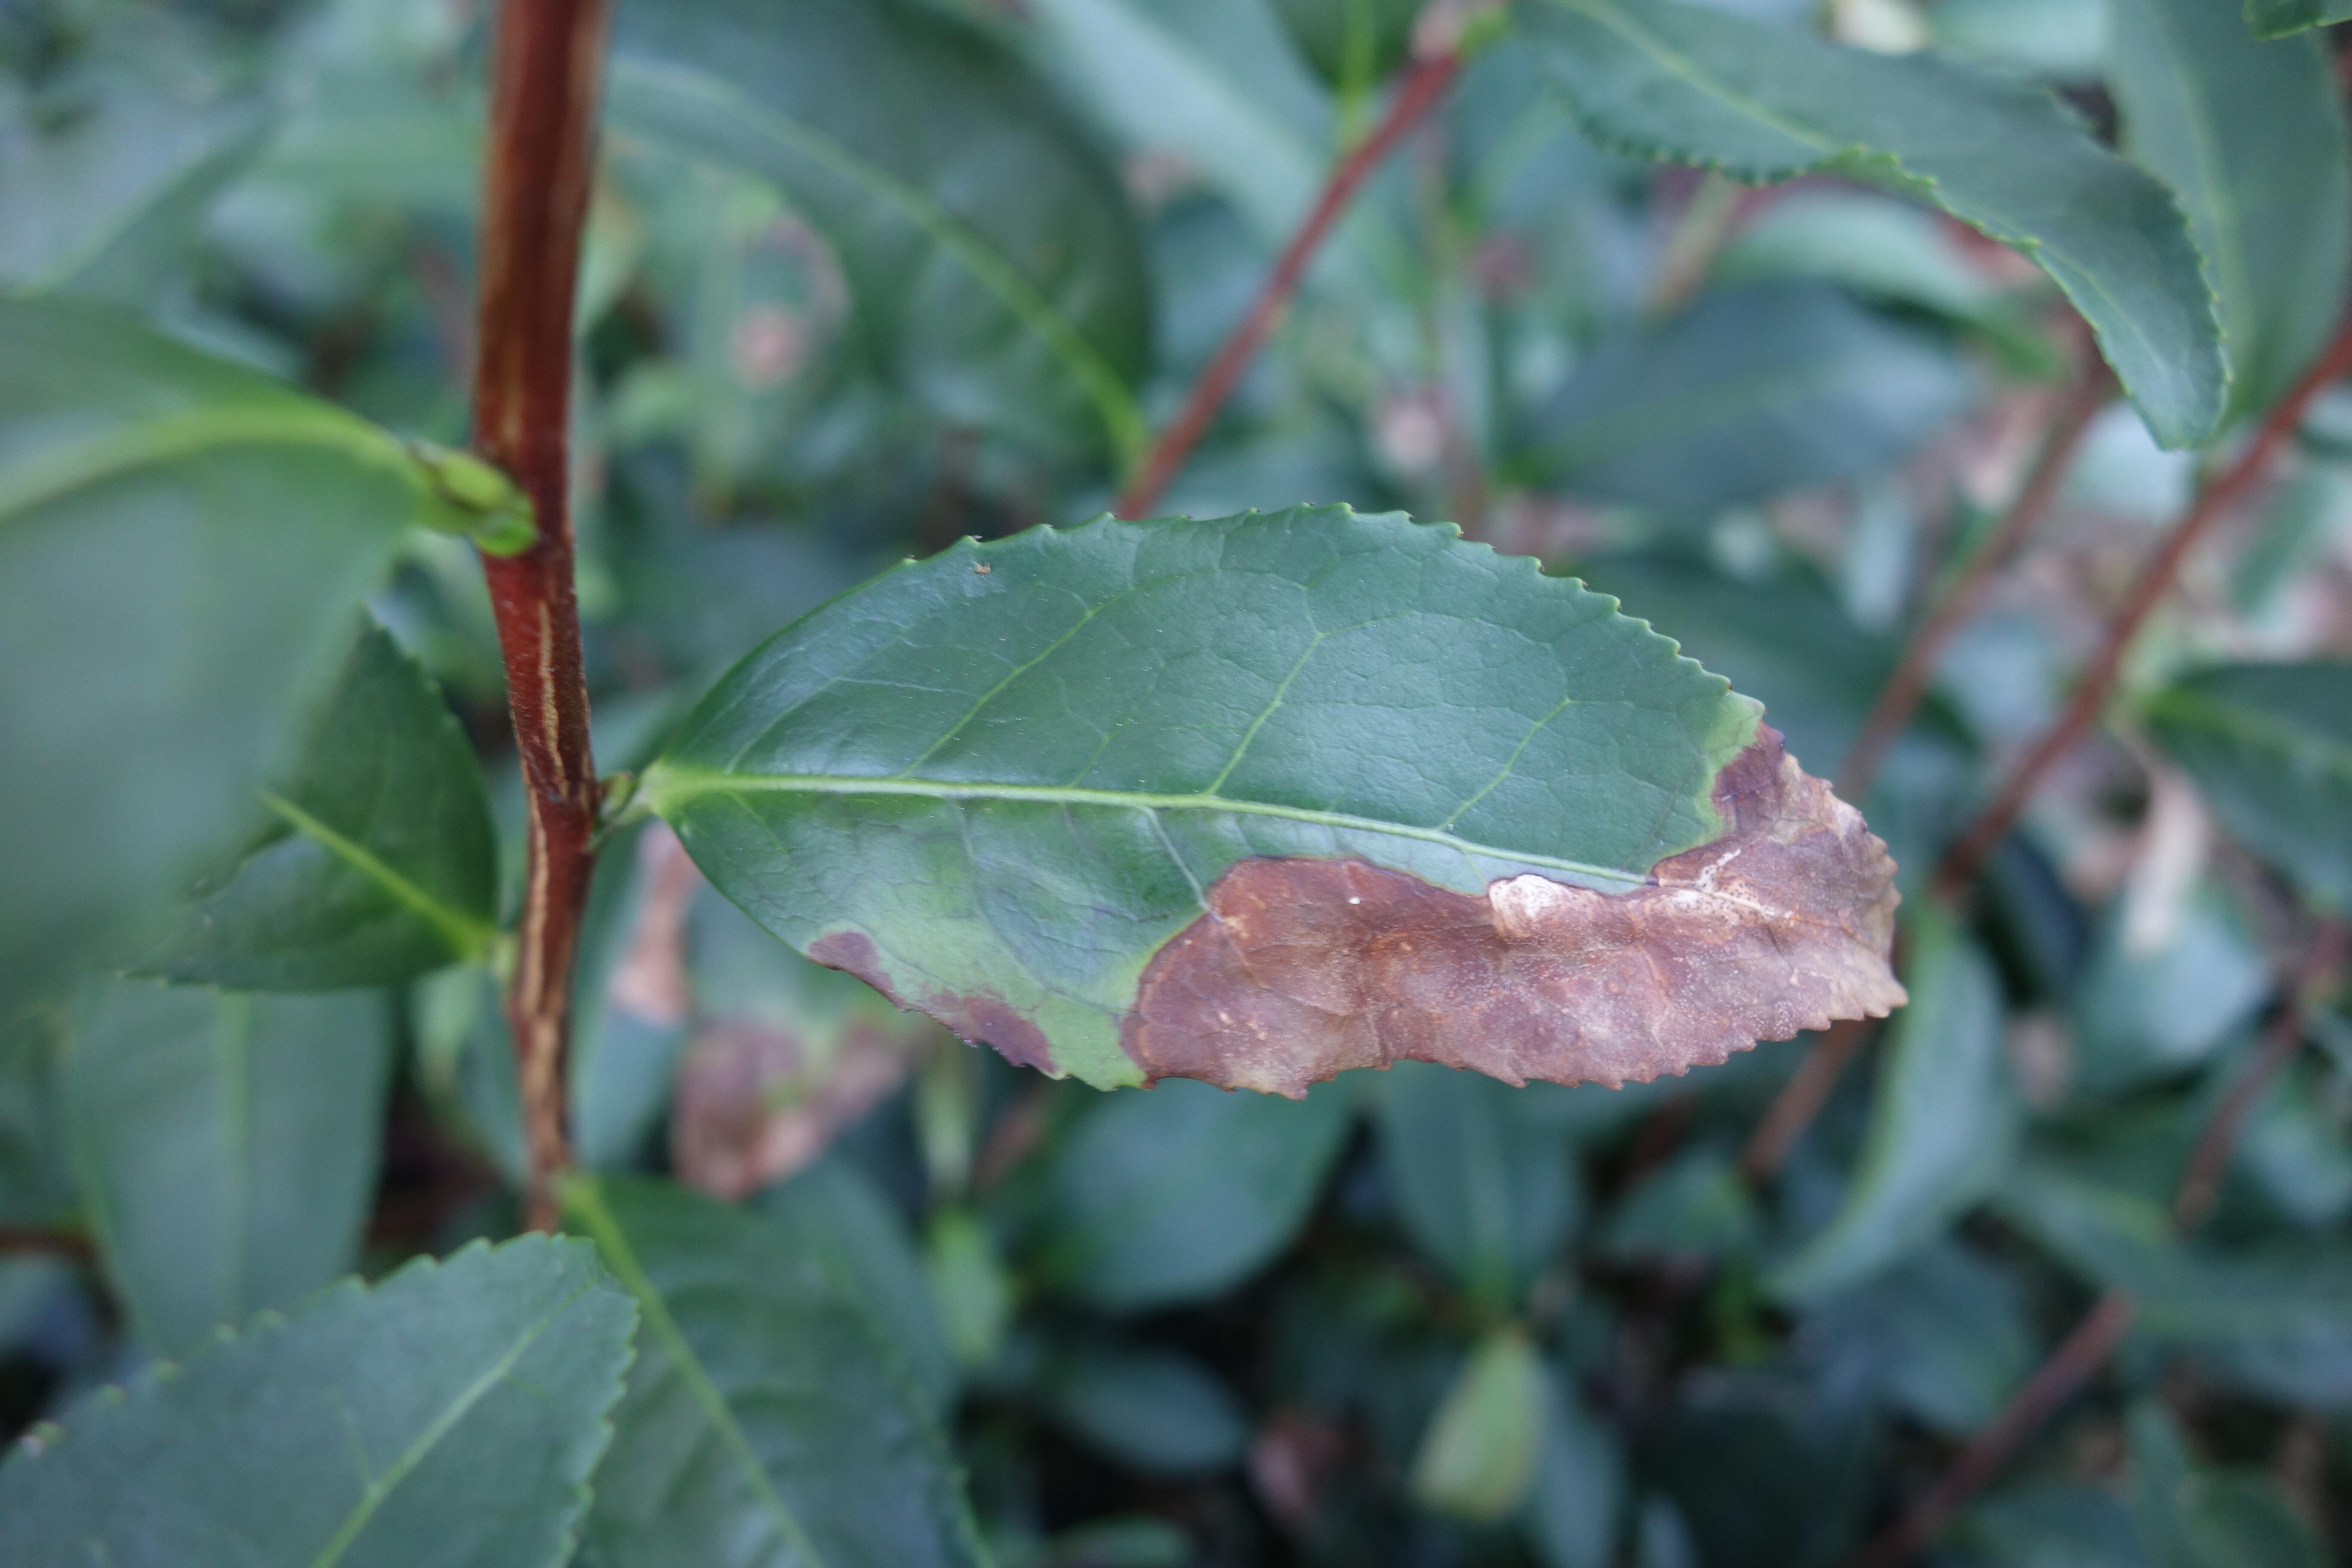tanju_high: (647, 495, 1909, 1090)
